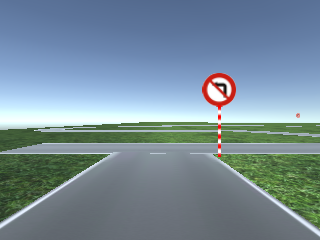0: (1, 187, 320, 239)
NoLeft: (201, 72, 237, 106)
